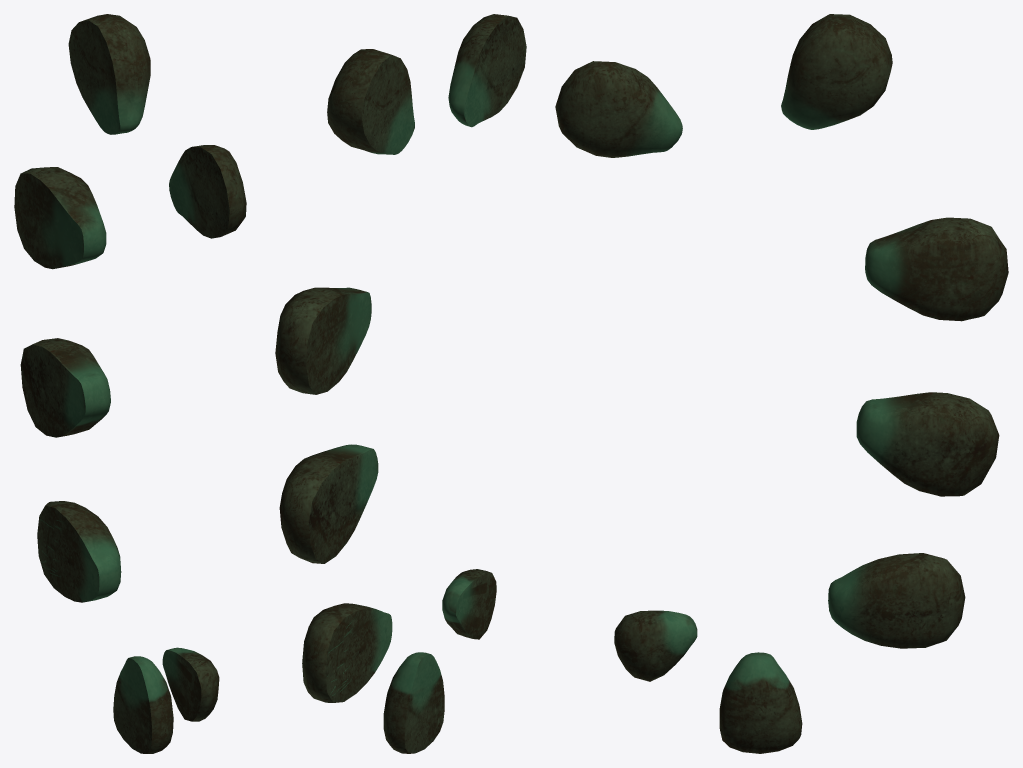
Rendered from Piramide_Corte.glb.
The picture shows the model from 3 angles, left to right: view 1: azimuth 30°, elevation 25°; view 2: azimuth 150°, elevation 25°; view 3: azimuth 270°, elevation 25°; orthographic projection. The views are drawn at different scales.
Visible parts, largest first — view 1: PIRAMIDES_CORTE; view 2: PIRAMIDES_CORTE; view 3: PIRAMIDES_CORTE.
Boxes of the visible parts, x1,y1,x2,y2 form: PIRAMIDES_CORTE: (14, 14, 246, 753); PIRAMIDES_CORTE: (275, 14, 526, 753); PIRAMIDES_CORTE: (555, 14, 1008, 753).
Size of the model in its own units: 0.1439 by 2.1 by 1.18.
1 material, 1 textured.
